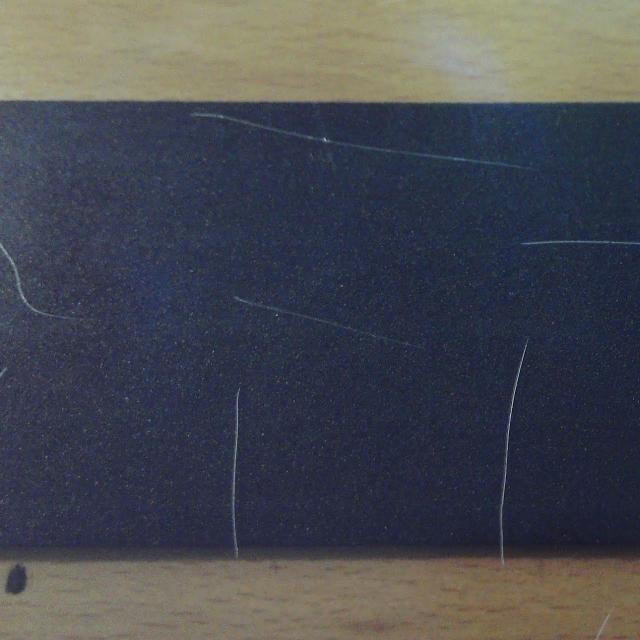defect: (190, 112, 539, 172), (232, 296, 426, 352), (0, 238, 104, 334), (492, 328, 531, 540), (221, 382, 250, 546), (520, 230, 640, 252), (0, 365, 15, 385)
